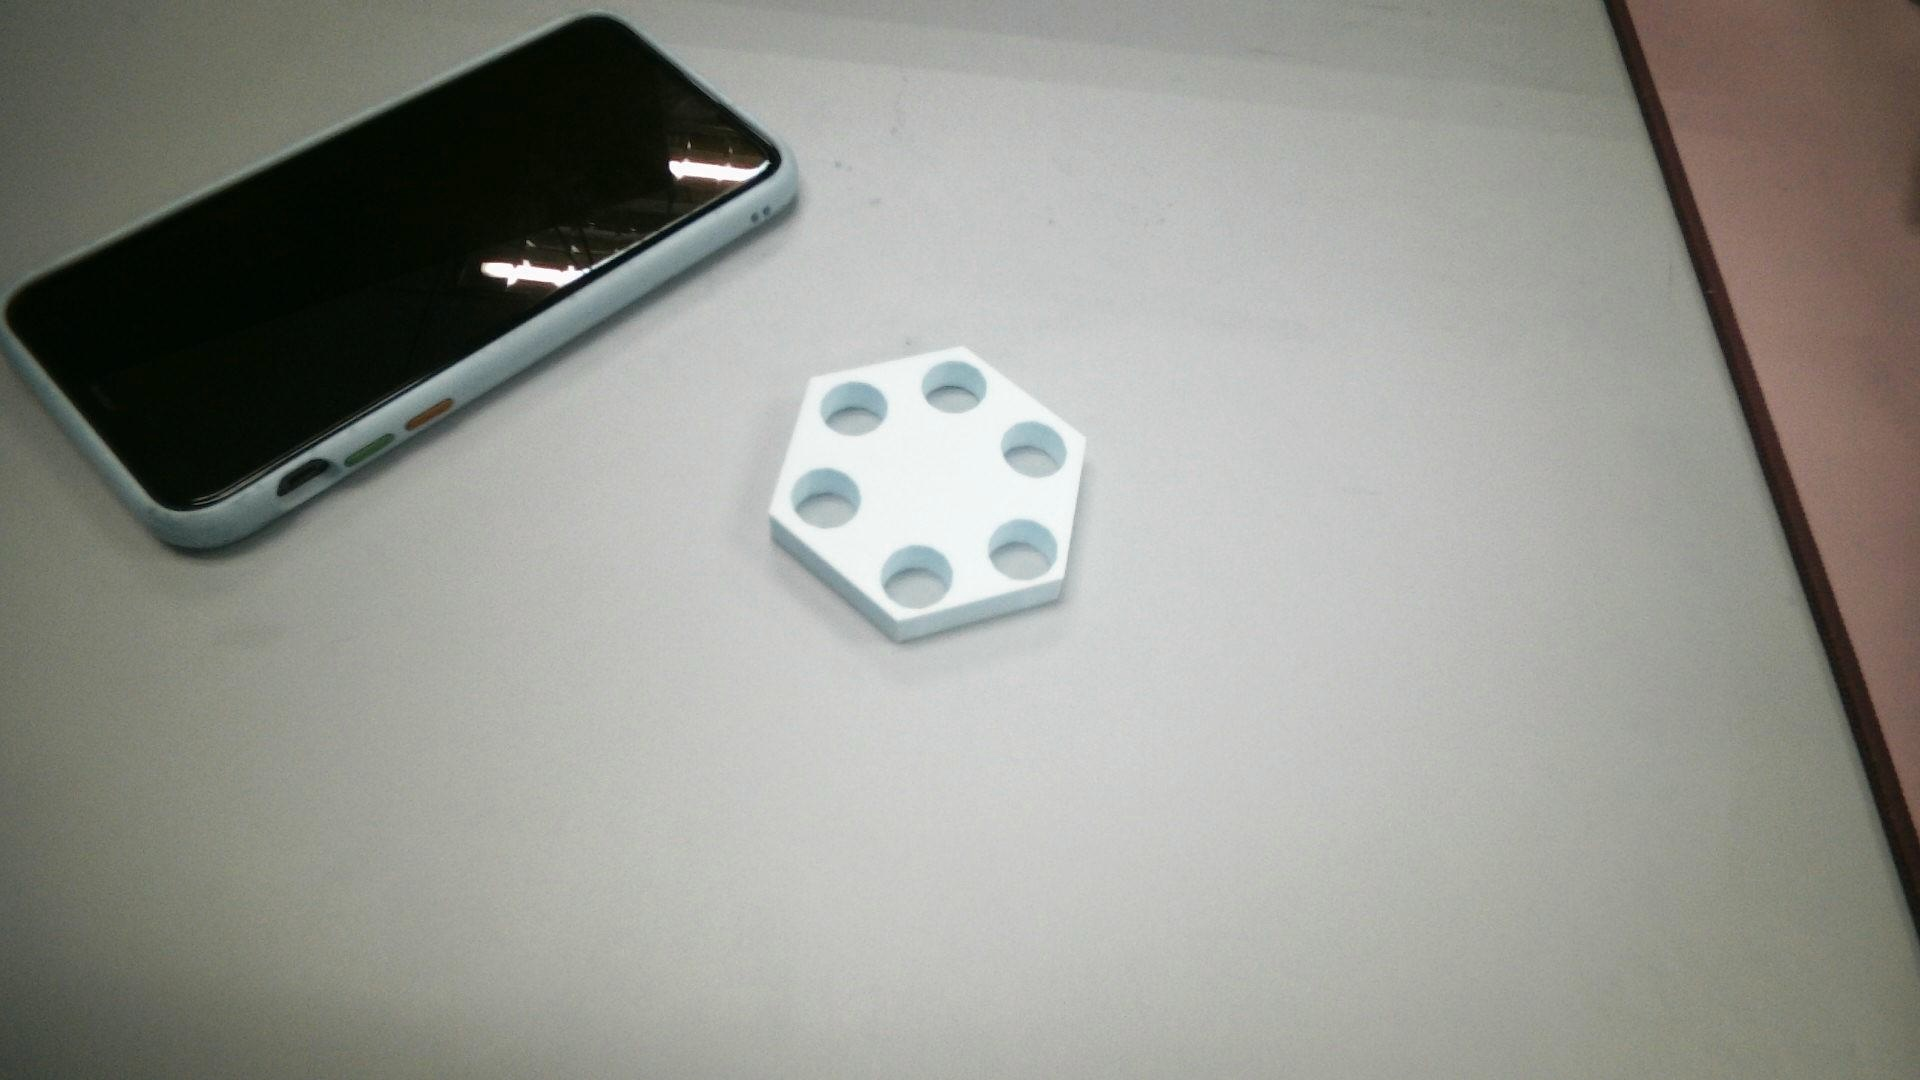hole: (980, 516, 1058, 578), (789, 468, 861, 530), (994, 417, 1067, 477), (818, 377, 891, 436), (884, 545, 953, 605), (926, 355, 982, 414)
obj: (764, 331, 1095, 645)
